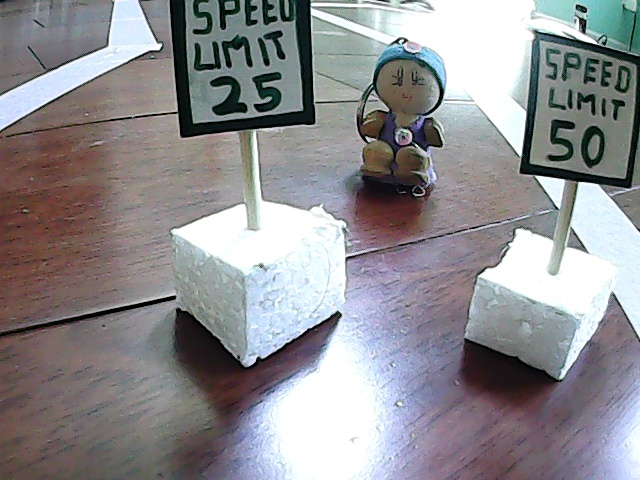pedestrain: (345, 35, 456, 205)
speed_25: (159, 1, 341, 348)
speed_50: (498, 23, 638, 382)
